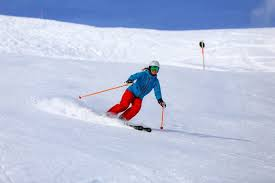skier: (76, 59, 167, 134)
